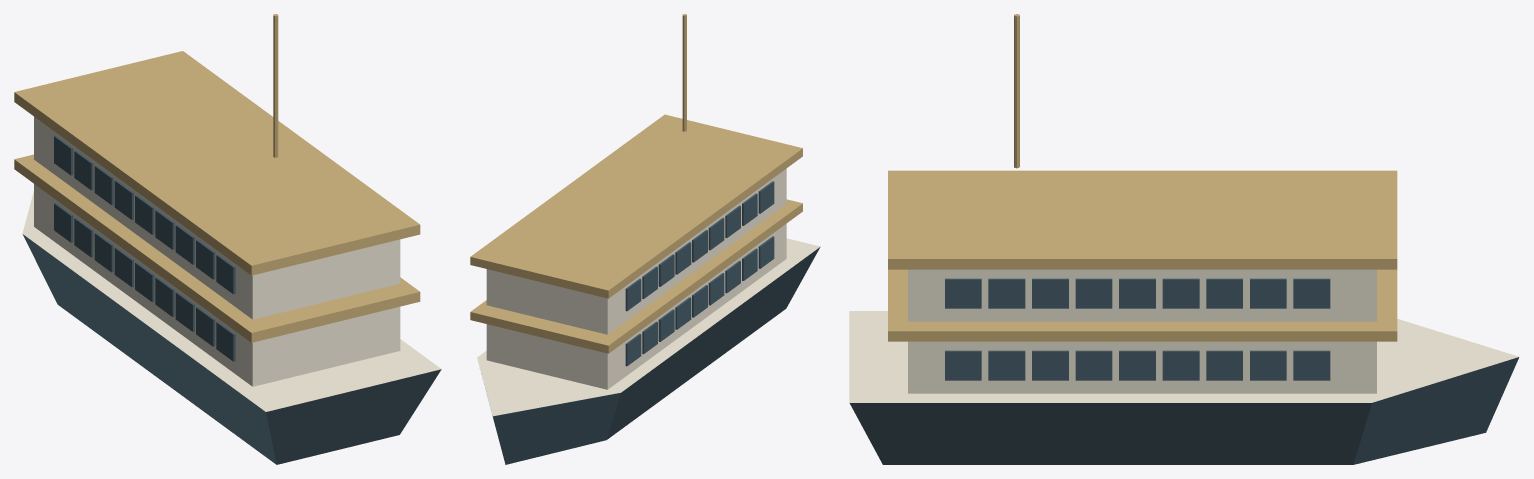
File: boat-1-lod2.glb
3 renders of one model, left to right at view 1: azimuth 30°, elevation 25°; view 2: azimuth 150°, elevation 25°; view 3: azimuth 270°, elevation 25°, orthographic. The views are drawn at different scales.
Visible parts, largest first — view 1: boat-1_architecture; view 2: boat-1_architecture; view 3: boat-1_architecture.
Part boxes in pixels (x1,y1,x2,y2): boat-1_architecture: (14, 14, 441, 464); boat-1_architecture: (470, 14, 820, 464); boat-1_architecture: (849, 14, 1519, 464).
Bounding box in the file's own units: 2.6 × 5.5 × 8.
